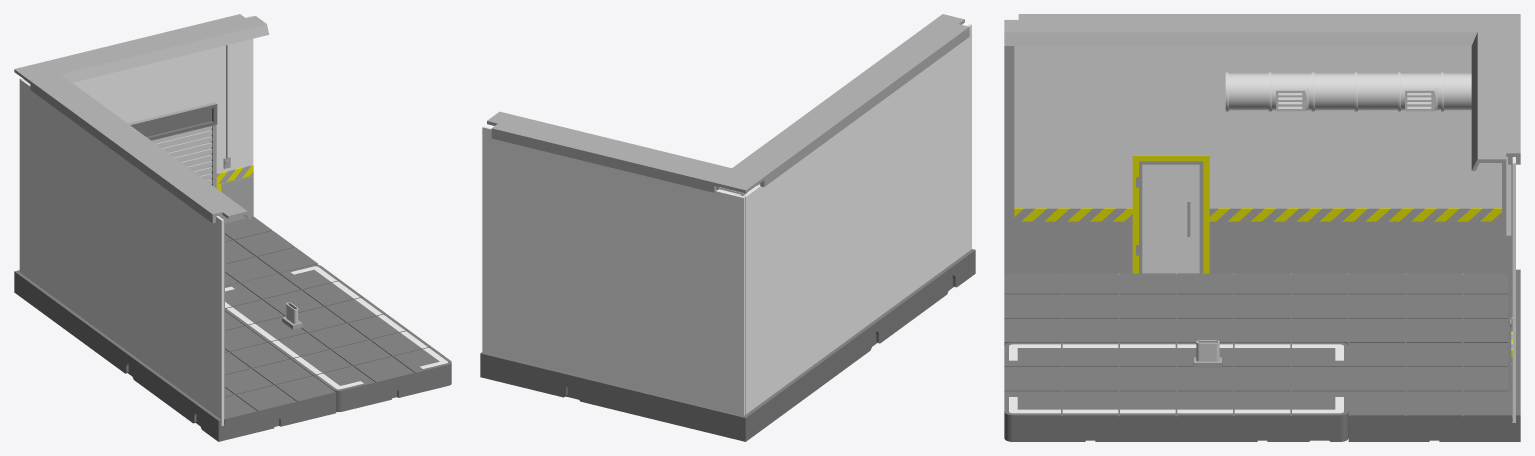
The model's file is garage_starterset.glb.
3 renders of one model, left to right at view 1: azimuth 30°, elevation 25°; view 2: azimuth 150°, elevation 25°; view 3: azimuth 270°, elevation 25°, orthographic. The views are drawn at different scales.
Visible parts, largest first — view 1: Seitenwand_Garage_kopie-1, GridDock_Charge_kopie-1, Werkstattboden_kopie-1, Wand_Garage_kopie-1, Artika_Winkel_kopie-1; view 2: Wand_Garage_kopie-1, Seitenwand_Garage_kopie-1, Artika_Winkel_kopie-1, Werkstattboden_kopie-1; view 3: Seitenwand_Garage_kopie-1, Werkstattboden_kopie-1, GridDock_Charge_kopie-1, Artika_Winkel_kopie-1, Lüftung_kopie-1, Wand_Garage_kopie-1, USB-Kabel_NetDot_V2_hybrid_V3_kopie-1.
Part boxes in pixels (x1,y1,x2,y2): Seitenwand_Garage_kopie-1: [21, 79, 224, 425]; GridDock_Charge_kopie-1: [225, 264, 451, 411]; Werkstattboden_kopie-1: [14, 216, 336, 441]; Wand_Garage_kopie-1: [19, 16, 253, 272]; Artika_Winkel_kopie-1: [14, 14, 269, 223]; Wand_Garage_kopie-1: [482, 126, 745, 415]; Seitenwand_Garage_kopie-1: [743, 24, 971, 414]; Artika_Winkel_kopie-1: [487, 14, 969, 193]; Werkstattboden_kopie-1: [480, 249, 975, 441]; Seitenwand_Garage_kopie-1: [1004, 19, 1507, 274]; Werkstattboden_kopie-1: [1004, 269, 1520, 441]; GridDock_Charge_kopie-1: [1004, 342, 1348, 441]; Artika_Winkel_kopie-1: [1004, 14, 1520, 170]; Lüftung_kopie-1: [1225, 71, 1471, 111]; Wand_Garage_kopie-1: [1506, 157, 1515, 422]; USB-Kabel_NetDot_V2_hybrid_V3_kopie-1: [1194, 340, 1221, 367].
Bounding box in the file's own units: 0.1201 × 0.1087 × 0.18.
